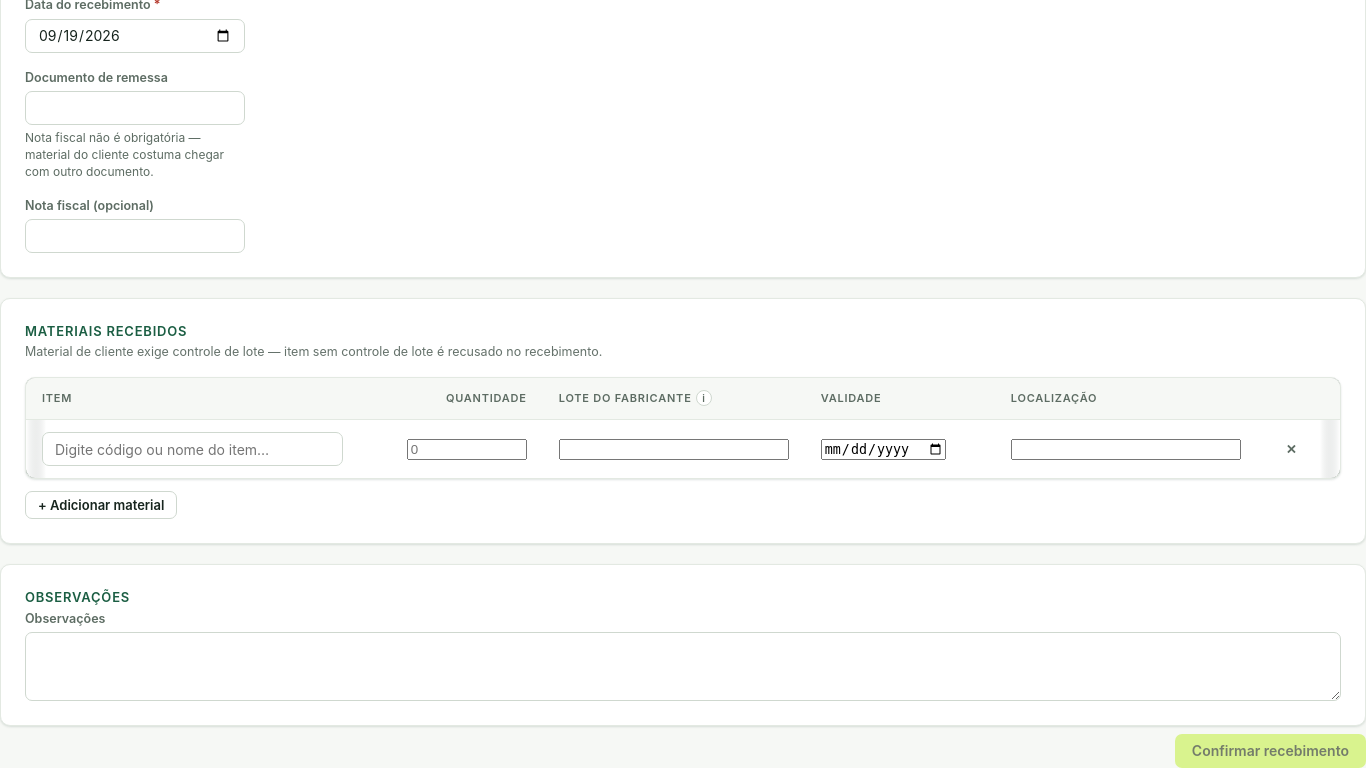
Test case: Material do cliente — guarda de alterações não salvas › dado de cabeçalho digitado pergunta antes de sair
(page scrolled)
Expected: the dropdown named "Item recebido" is shown, [42, 432, 343, 466]
Type "Chegou em dois paletes" into the text box with id "customer-receipt-notes" at (683, 666), box [25, 632, 1341, 701]
(page scrolled)
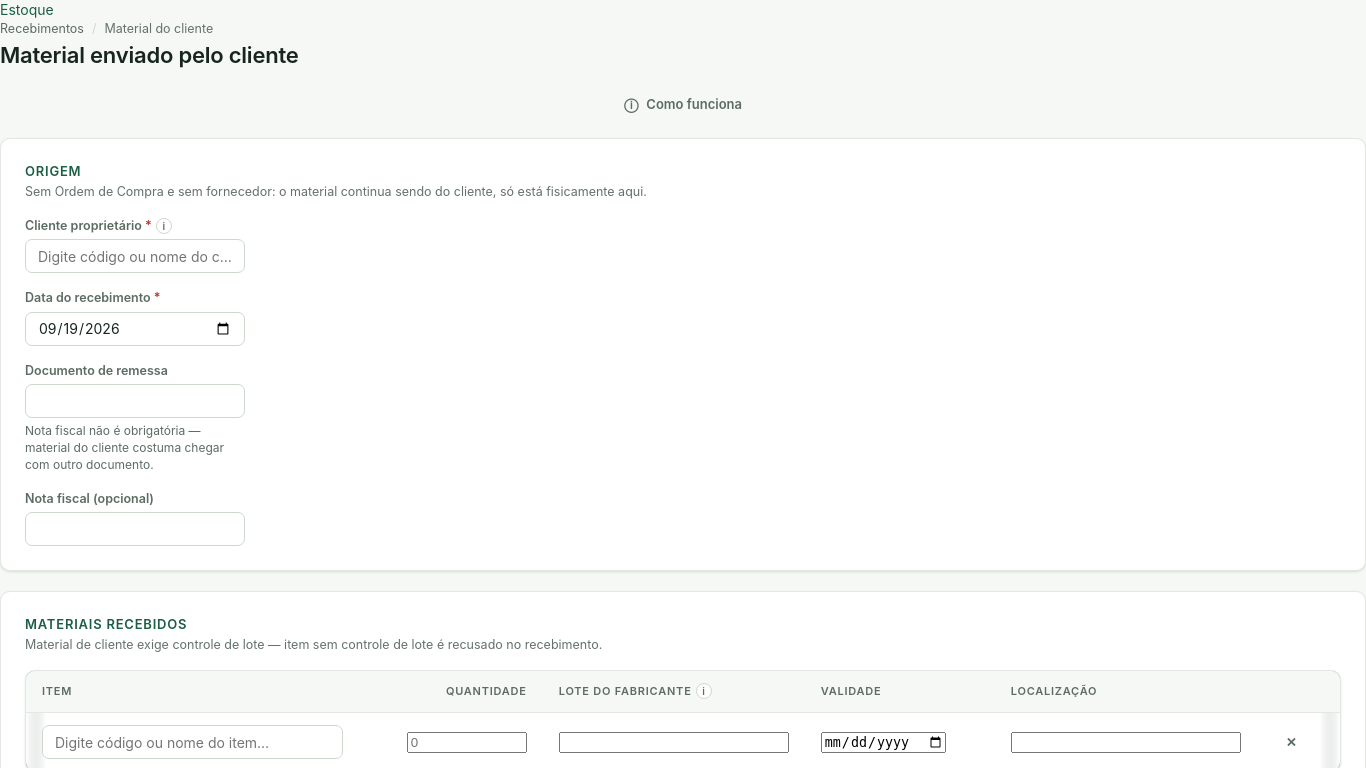
Click the link "Estoque" at (27, 10), box [0, 1, 54, 18]
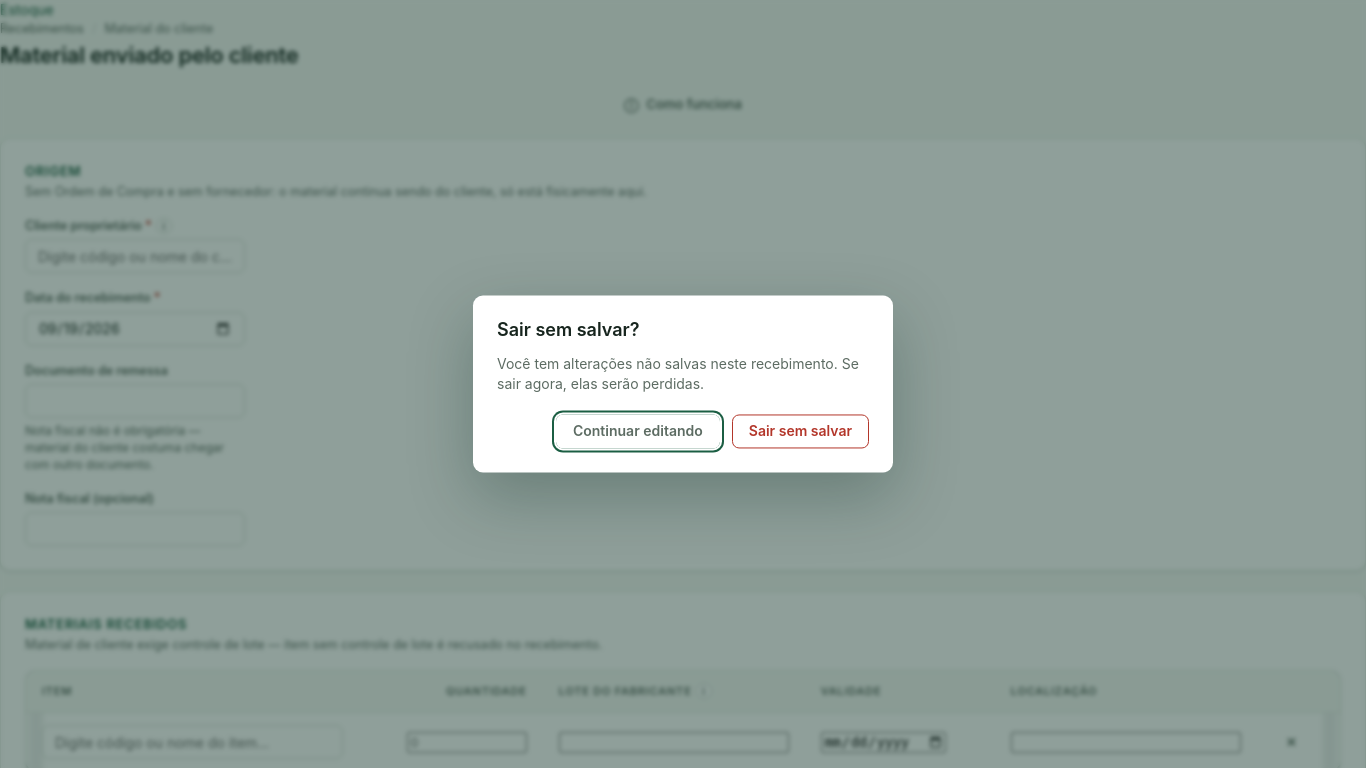
Expected: the heading "Sair sem salvar?" is shown, [497, 320, 640, 340]
Expected: the text "alterações não salvas neste recebimento" is shown, [497, 354, 869, 395]
